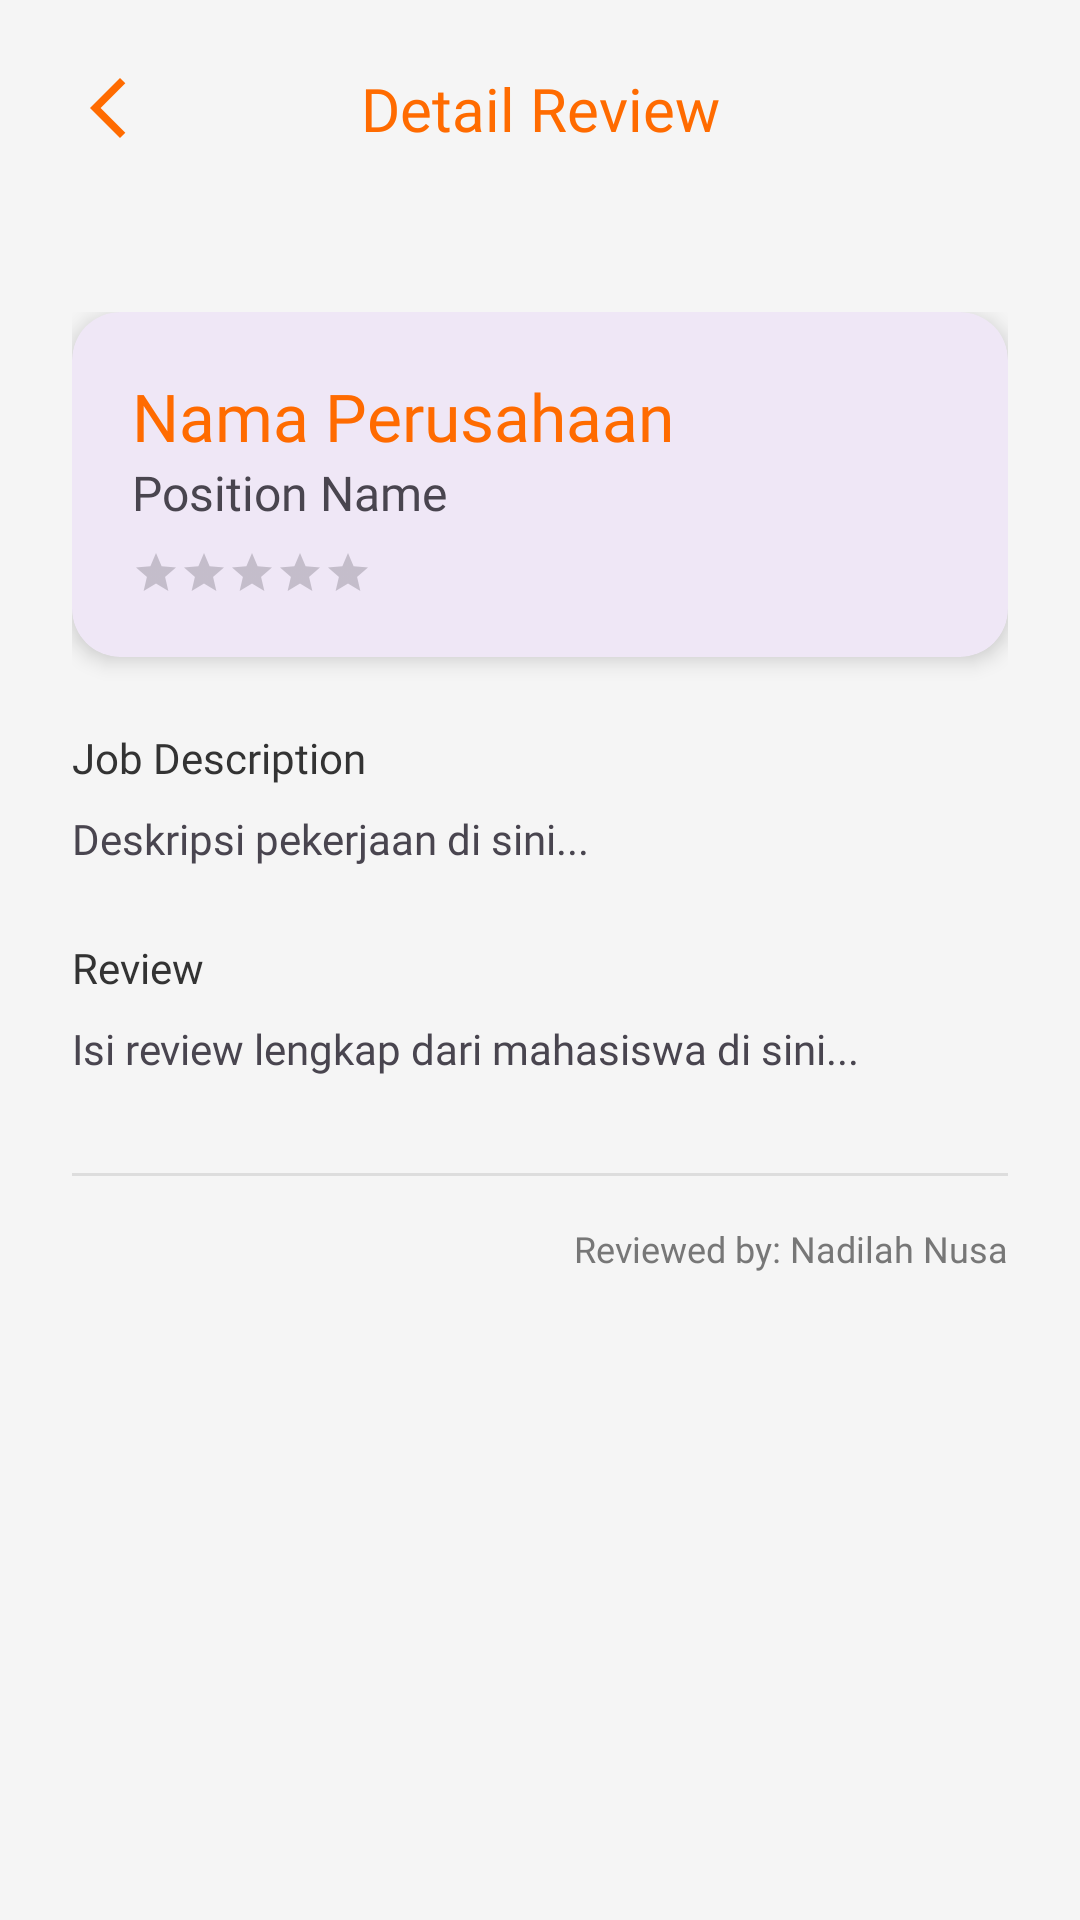

Named icons in this screenshot (1080 × 1920) and their centers, point (x, y):
arrow back: point (107, 108)
